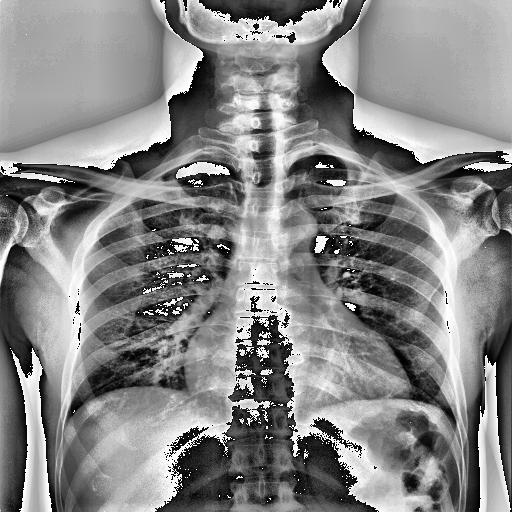3- Cardiomegaly: (184, 318, 408, 398), (181, 349, 415, 408), (185, 345, 411, 395)
